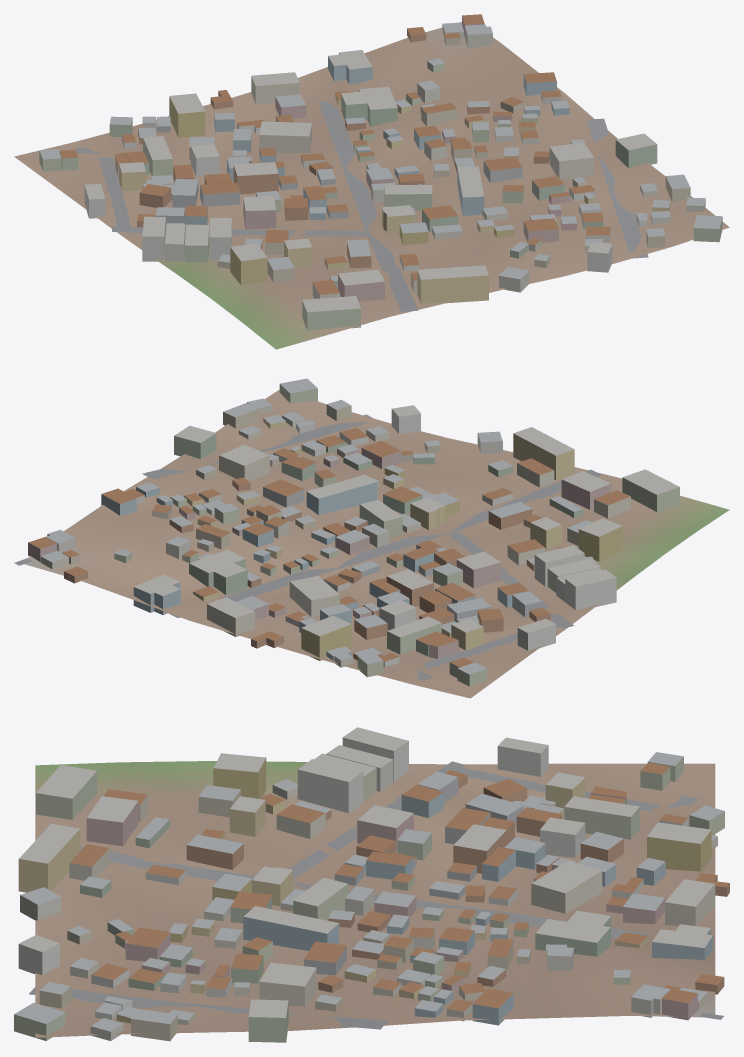
3 renders of one model, top to bottom at view 1: azimuth 30°, elevation 25°; view 2: azimuth 150°, elevation 25°; view 3: azimuth 270°, elevation 25°, orthographic. The views are drawn at different scales.
Visible parts, largest first — view 1: Lo; view 2: Lo; view 3: Lo.
Part boxes in pixels (bbox=[...]): Lo: bbox=[14, 14, 729, 349]; Lo: bbox=[14, 378, 729, 698]; Lo: bbox=[14, 727, 729, 1042].
Size of the model in its own units: 268 by 22.47 by 270.
